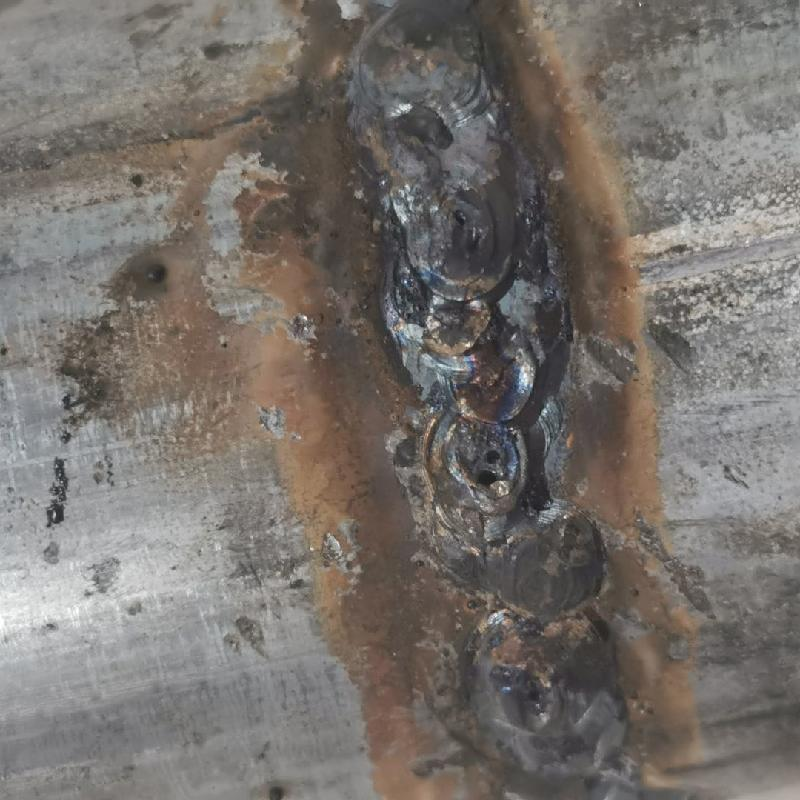Surface_pores: (458, 438, 517, 497), (447, 205, 481, 231)
crater: (363, 191, 558, 515)
wrong_size: (427, 517, 645, 795), (332, 0, 516, 190)
